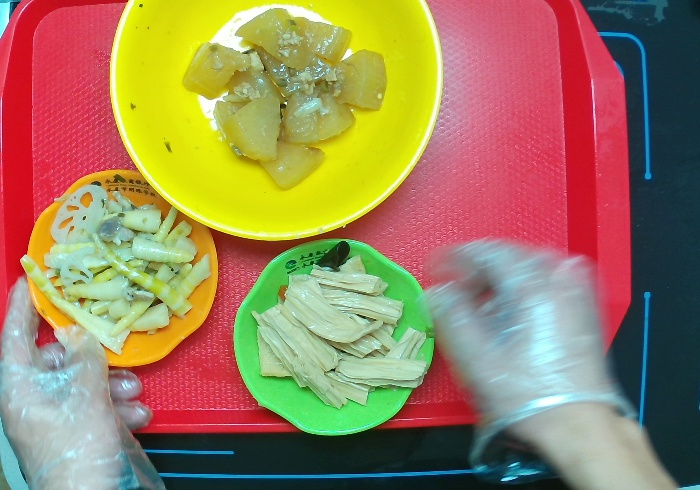YKMZ-Huang_Se_Tang_Wan: (103, 1, 447, 247)
YKMZ-Ju_Se_Ao_Bian_Wan: (23, 167, 226, 370)
YKMZ-Lv_Se_Ao_Bian_Wan: (219, 233, 442, 447)
